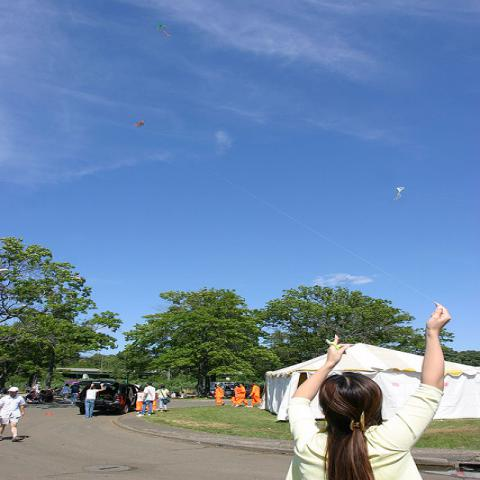car: (76, 380, 142, 416)
